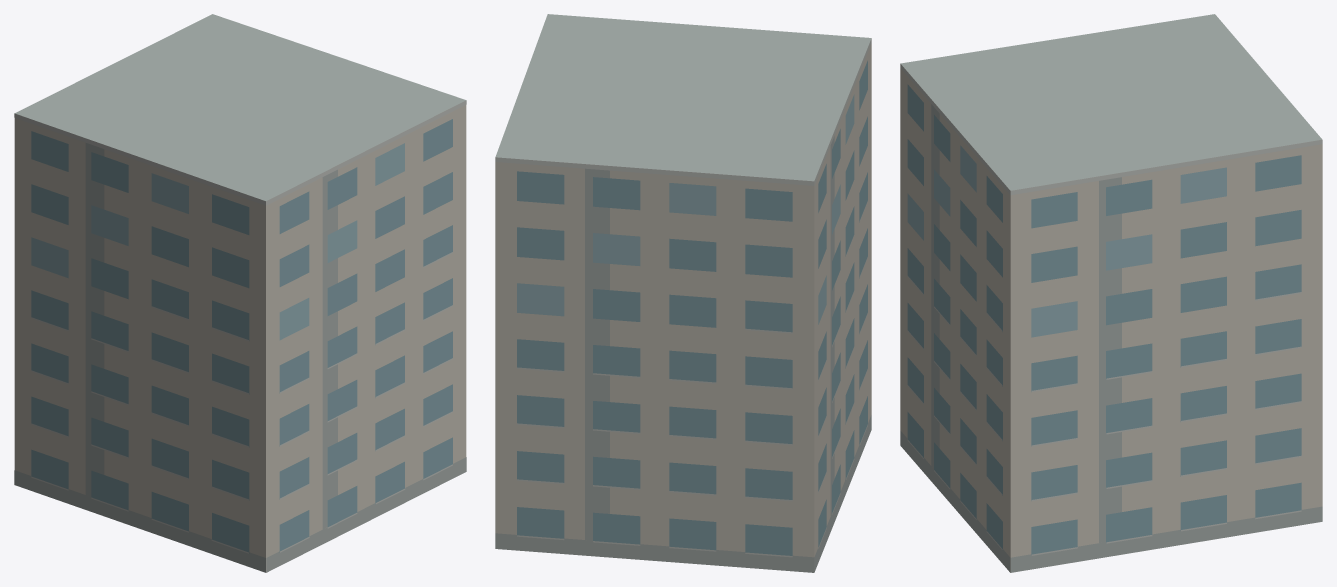
File: survey-upis-32861182.glb
3 views of the same model, side by side, from view 1: azimuth 30°, elevation 25°; view 2: azimuth 150°, elevation 25°; view 3: azimuth 270°, elevation 25° (orthographic). The views are drawn at different scales.
Visible parts, largest first — view 1: survey-upis-32861182.tmp; view 2: survey-upis-32861182.tmp; view 3: survey-upis-32861182.tmp.
Part boxes in pixels (x1,y1,x2,y2): survey-upis-32861182.tmp: (14,14,466,572); survey-upis-32861182.tmp: (495,14,871,572); survey-upis-32861182.tmp: (900,14,1322,572).
Size of the model in its own units: 20.36 by 20.5 by 20.54.
